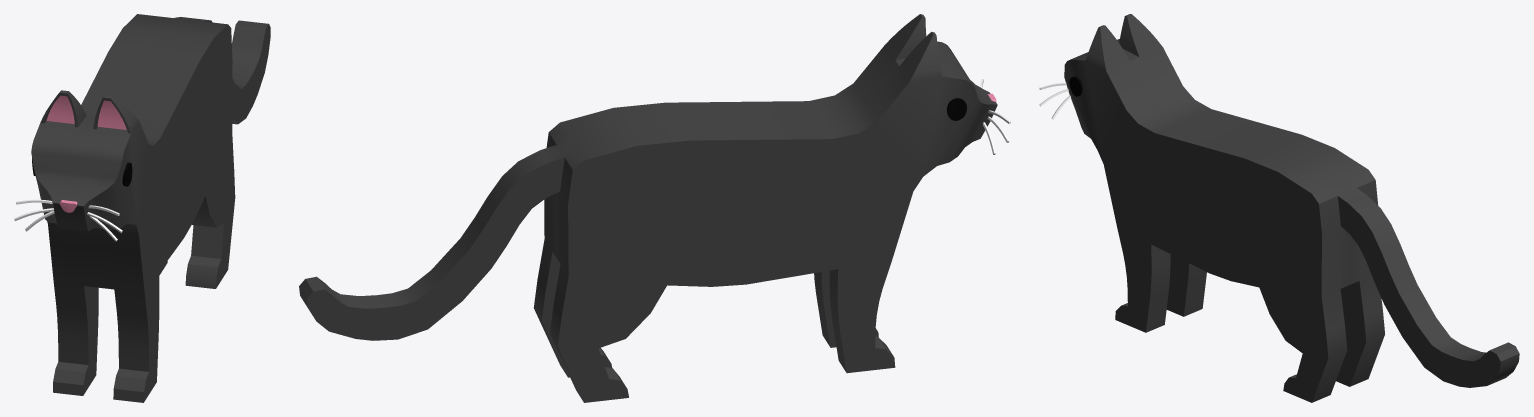
The model's file is black_cat.glb.
3 views of the same model, side by side, from view 1: azimuth 30°, elevation 25°; view 2: azimuth 150°, elevation 25°; view 3: azimuth 270°, elevation 25° (orthographic). The views are drawn at different scales.
Parts seen in each view (by area): view 1: Plane.155, Cube.006; view 2: Plane.155; view 3: Plane.155.
Boxes of the visible parts, <box> form: Plane.155: <box>31,14,270,402</box>; Cube.006: <box>14,199,122,241</box>; Plane.155: <box>299,14,997,402</box>; Plane.155: <box>1064,14,1519,402</box>.
Size of the model in its own units: 2.35 by 1.49 by 2.35.
Materials: 1 (1 with a texture image).
